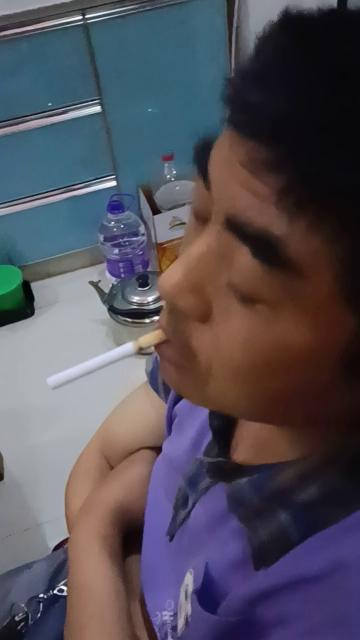Cigarette: (48, 328, 166, 392)
